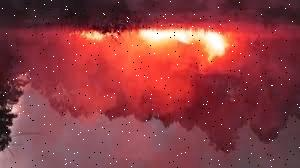fire: (69, 24, 233, 64)
